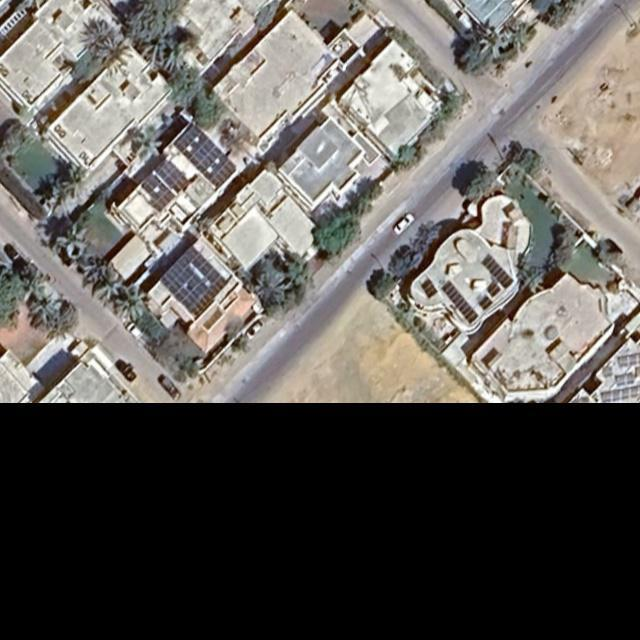solar panel: (159, 247, 230, 318), (172, 124, 238, 189), (440, 280, 480, 324), (139, 174, 176, 211), (154, 158, 190, 195), (482, 256, 514, 289), (600, 385, 640, 403), (419, 278, 439, 298), (617, 352, 640, 368), (615, 372, 634, 386), (477, 294, 493, 310), (487, 282, 502, 297)
